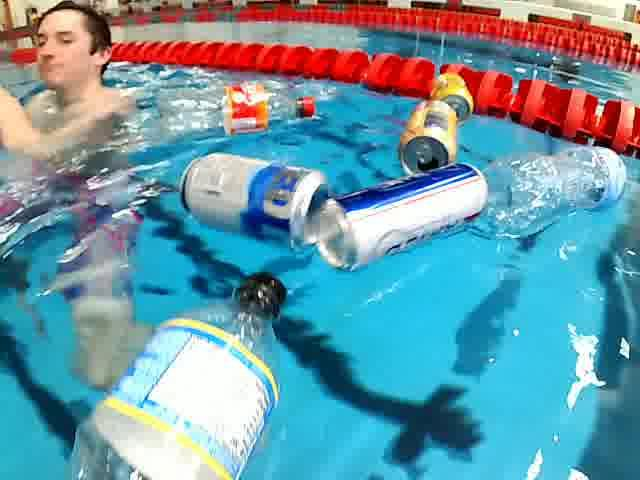Bottle: (62, 264, 300, 480), (480, 138, 638, 242), (156, 77, 322, 148)
Can: (308, 154, 492, 280), (172, 152, 336, 256), (388, 100, 460, 184), (427, 67, 477, 127)
